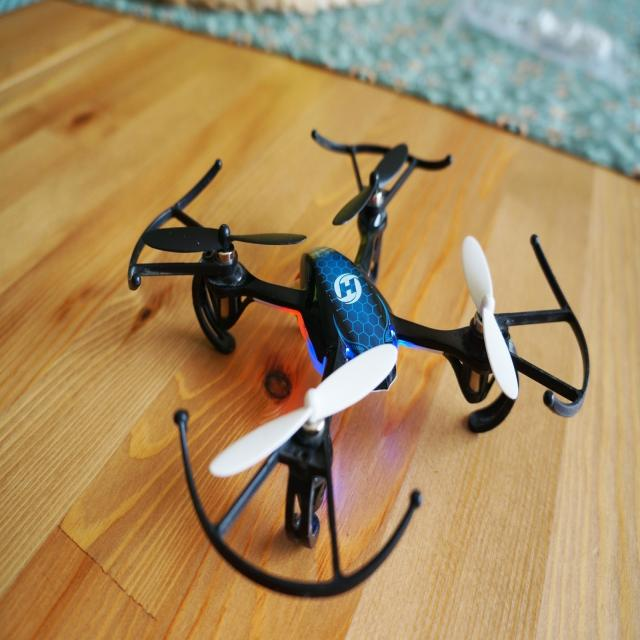drone: (127, 112, 606, 592)
